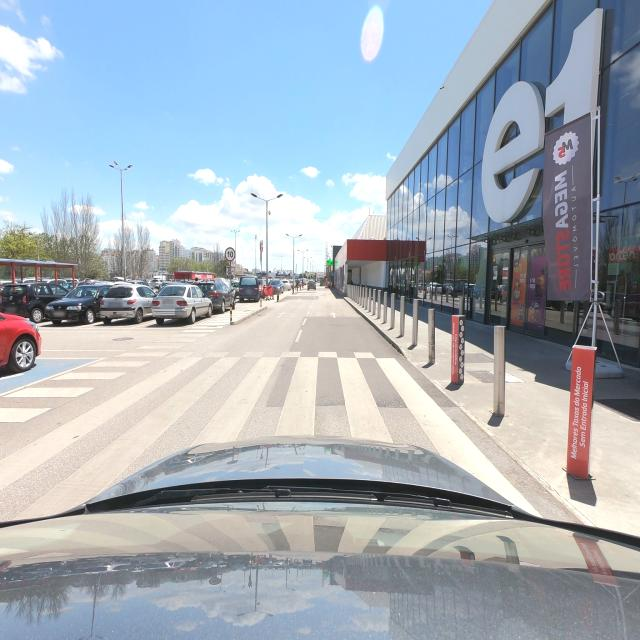car: (0, 289, 42, 383), (46, 284, 110, 326), (151, 283, 213, 325), (7, 282, 69, 323), (99, 284, 157, 324), (197, 280, 235, 313), (238, 276, 262, 302), (265, 278, 284, 296), (230, 280, 242, 294), (307, 280, 316, 290)
